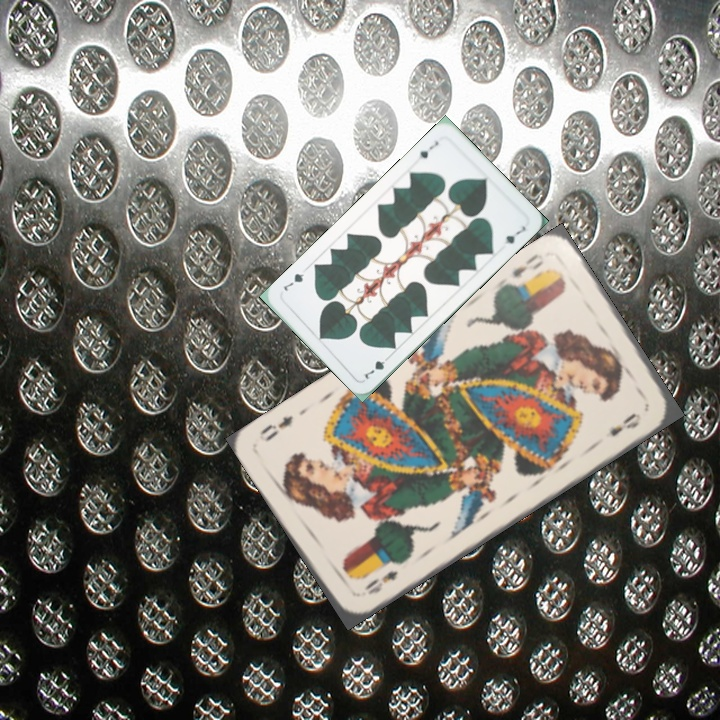EO: (360, 566, 401, 598), (507, 249, 547, 281)
G7: (358, 351, 394, 382), (415, 137, 441, 161)
